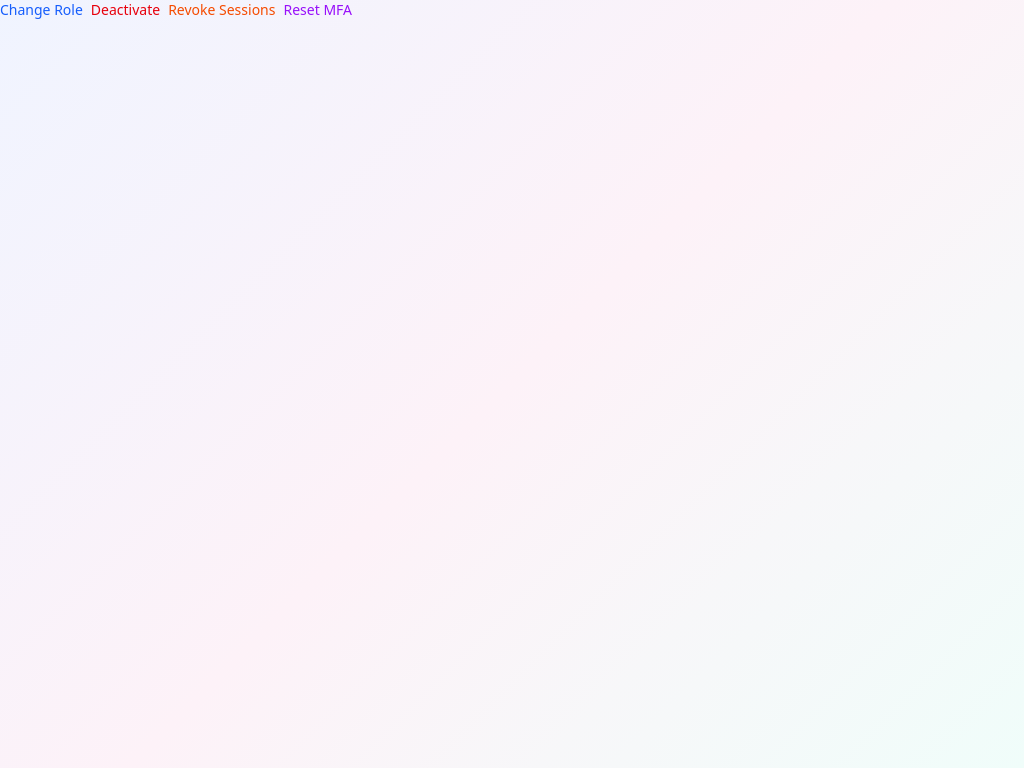
it: UserActions › opens role change dialog when Change Role is clicked
Click the button "Change Role" at (41, 10), box x1=0 y1=0 x2=83 y2=20
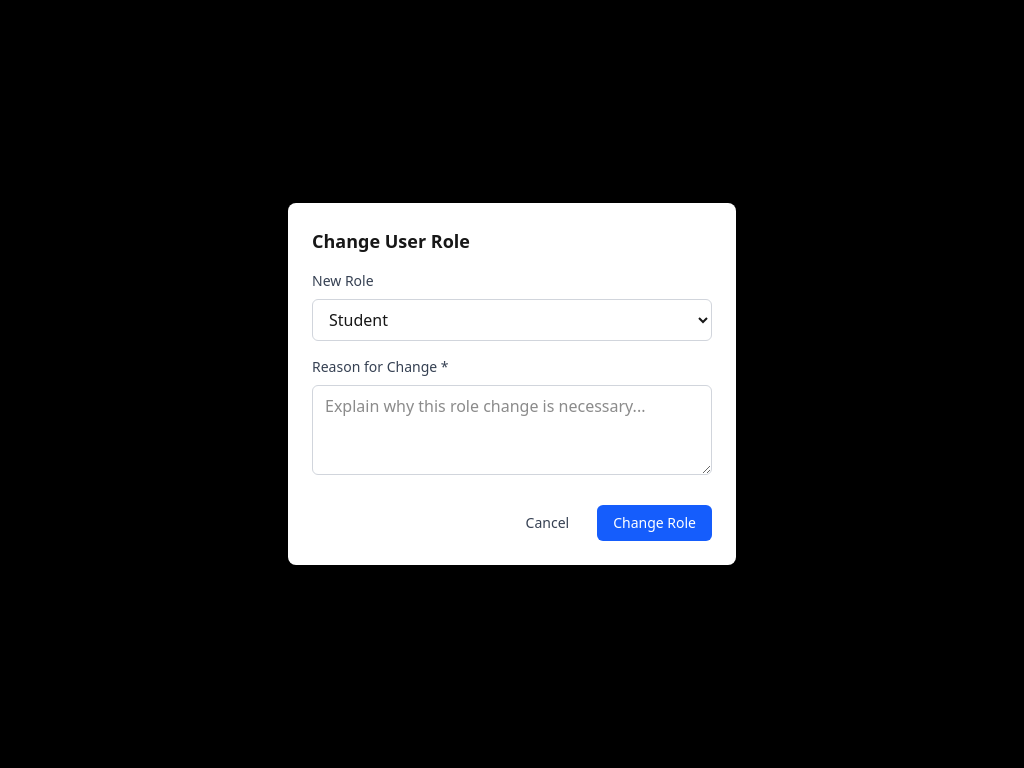
Check: the text "New Role" is shown, box x1=312 y1=271 x2=374 y2=290
Check: the text "Reason for Change *" is shown, box x1=312 y1=357 x2=448 y2=376
